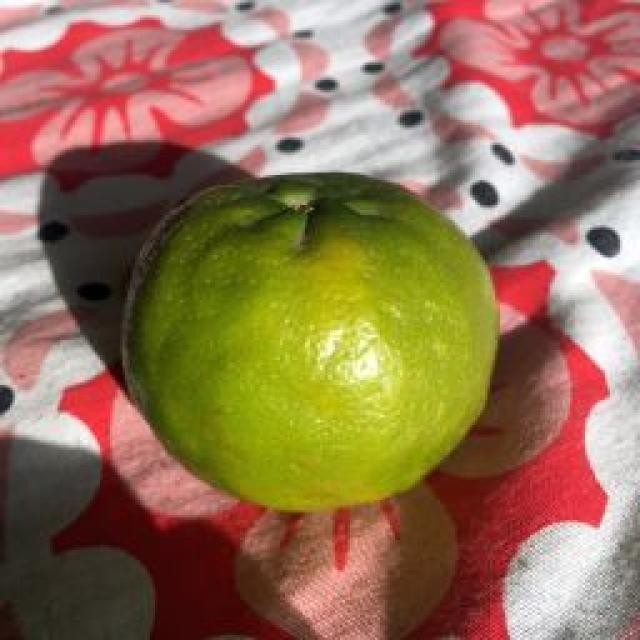Good_Orange: (128, 172, 502, 515)
